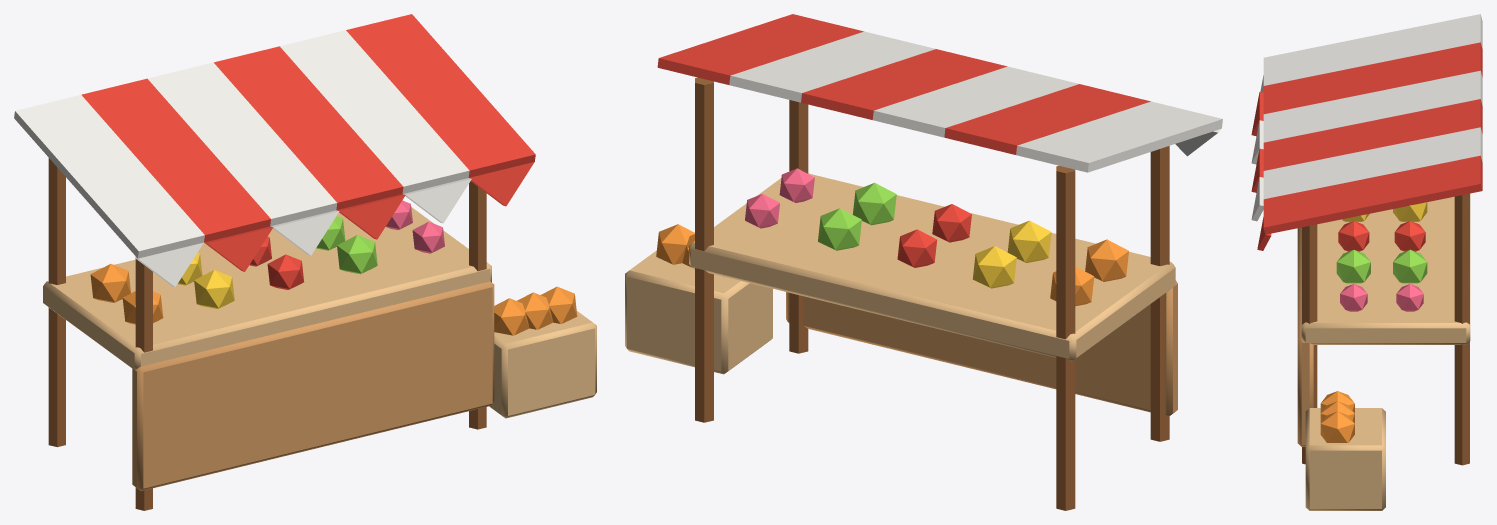
The model's file is home_stall.fbx.
3 views of the same model, side by side, from view 1: azimuth 30°, elevation 25°; view 2: azimuth 150°, elevation 25°; view 3: azimuth 270°, elevation 25° (orthographic). The views are drawn at different scales.
Parts seen in each view (by area): view 1: home_stall; view 2: home_stall; view 3: home_stall.
Part boxes in pixels (left/top/right/bottom): home_stall: left=14, top=14, right=596, bottom=510; home_stall: left=625, top=14, right=1222, bottom=510; home_stall: left=1251, top=14, right=1482, bottom=510.
Bounding box in the file's own units: 1.22 × 0.7995 × 0.5746.
